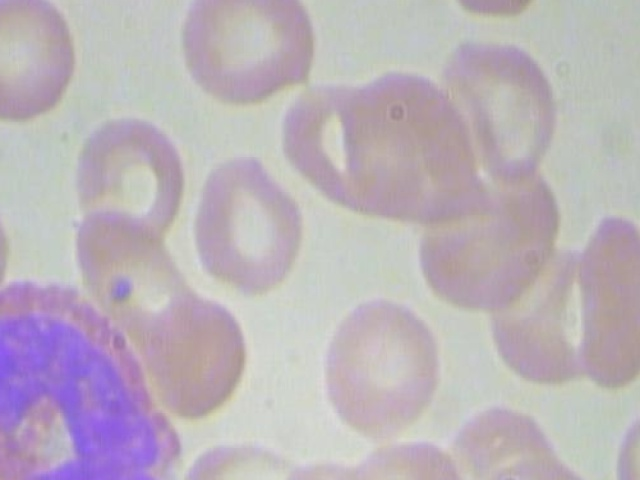RBC: (305, 287, 449, 446), (189, 138, 308, 302), (74, 102, 197, 258), (172, 0, 333, 108), (142, 285, 253, 424), (570, 209, 640, 399), (0, 0, 85, 131), (460, 448, 605, 480), (435, 0, 559, 31)
WBC: (0, 268, 186, 480)
